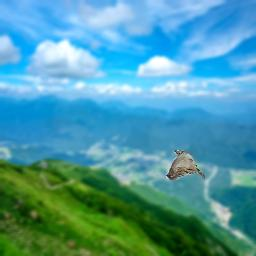Sparrow: (166, 150, 205, 180)
